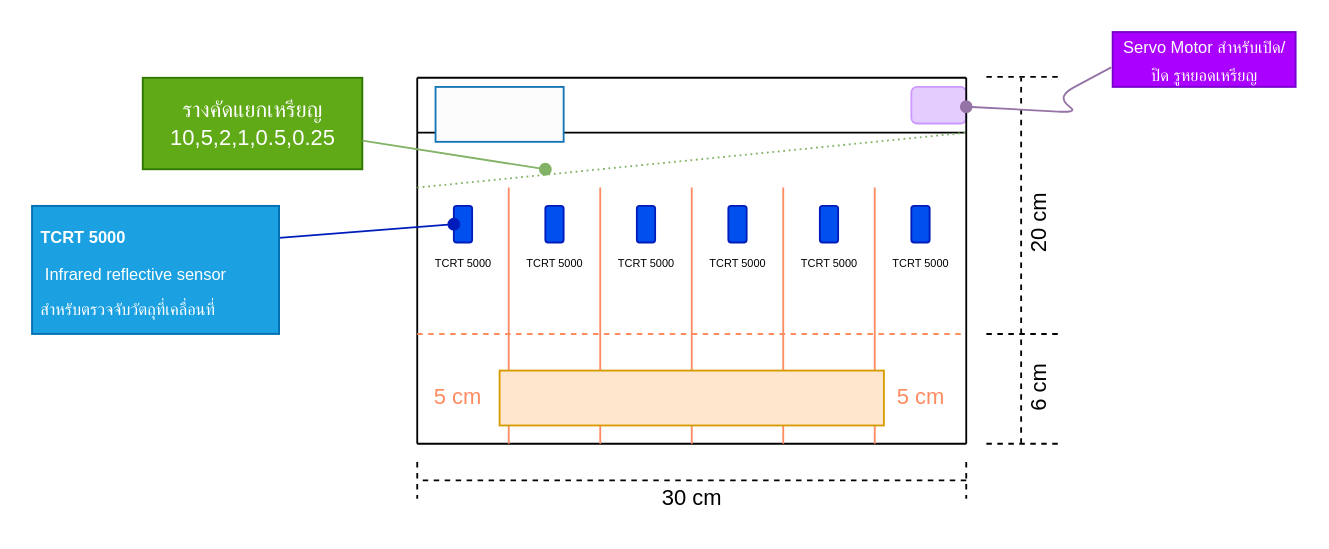
Image size: 1329x549. Some labels were removed from this diagram. The box of each missing label's shape, as (x1, y1, x2, y2) in pixels:
LCD: (434, 85, 564, 142)
ช่องเก็บเหรียญ: (498, 369, 884, 425)
